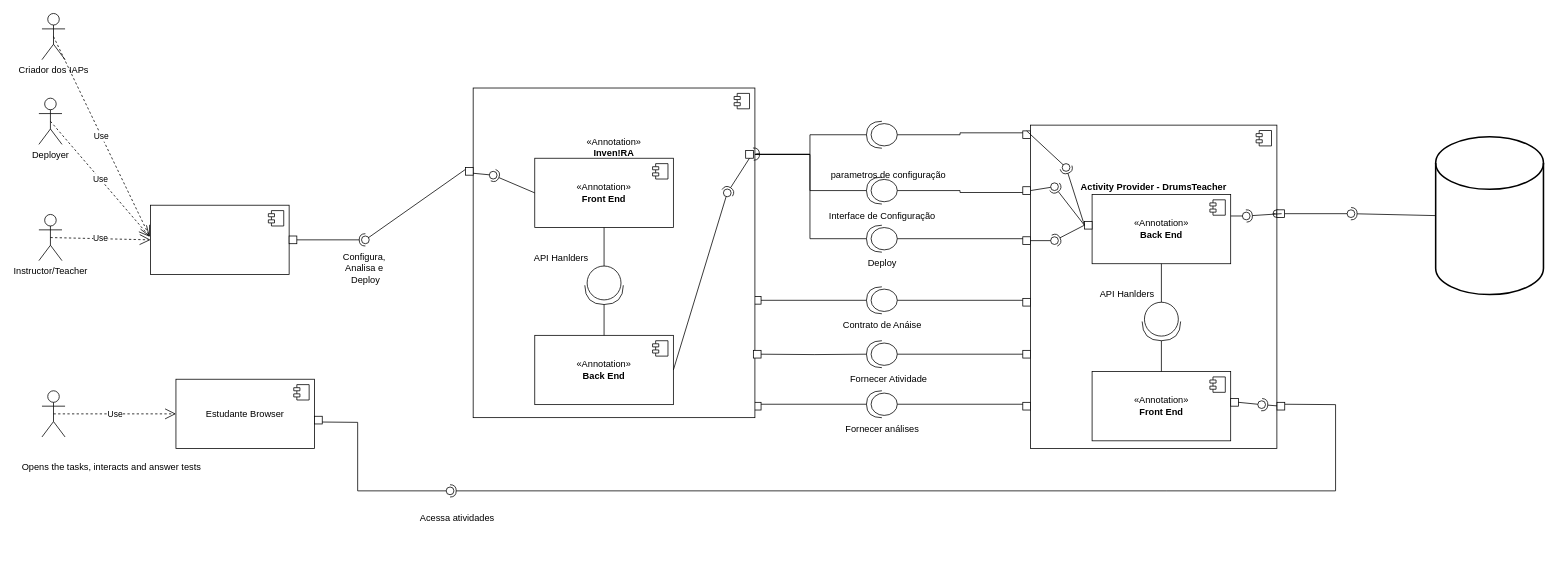
Some shapes in this 1557 by 570 pixel diagram are drawn without their labels. The centre of each missing label's shape, as x and y in pixels:
"Banco de dados do DrumsTeacher" goes at (1489,215).
"Professor Browser" goes at (219,239).
"Student" goes at (53,413).
